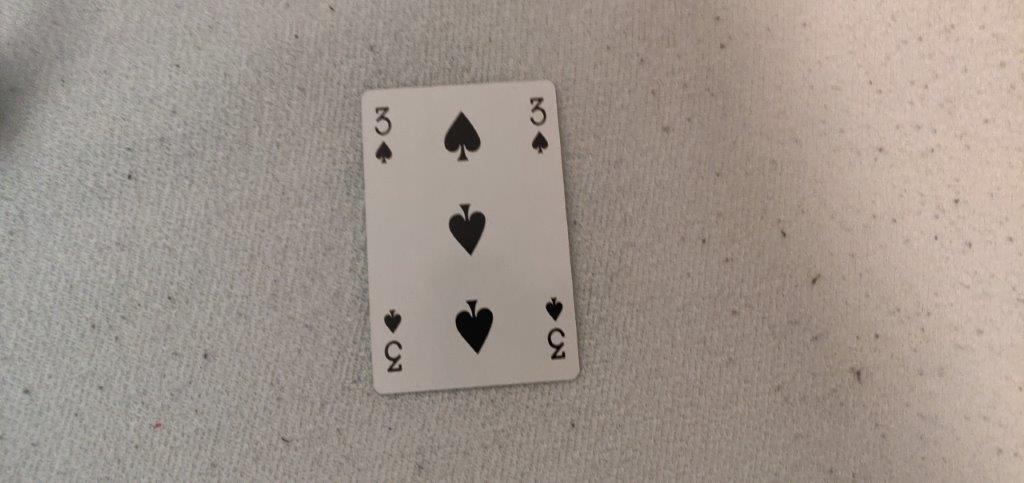3S: (371, 101, 399, 170), (524, 93, 553, 159)
